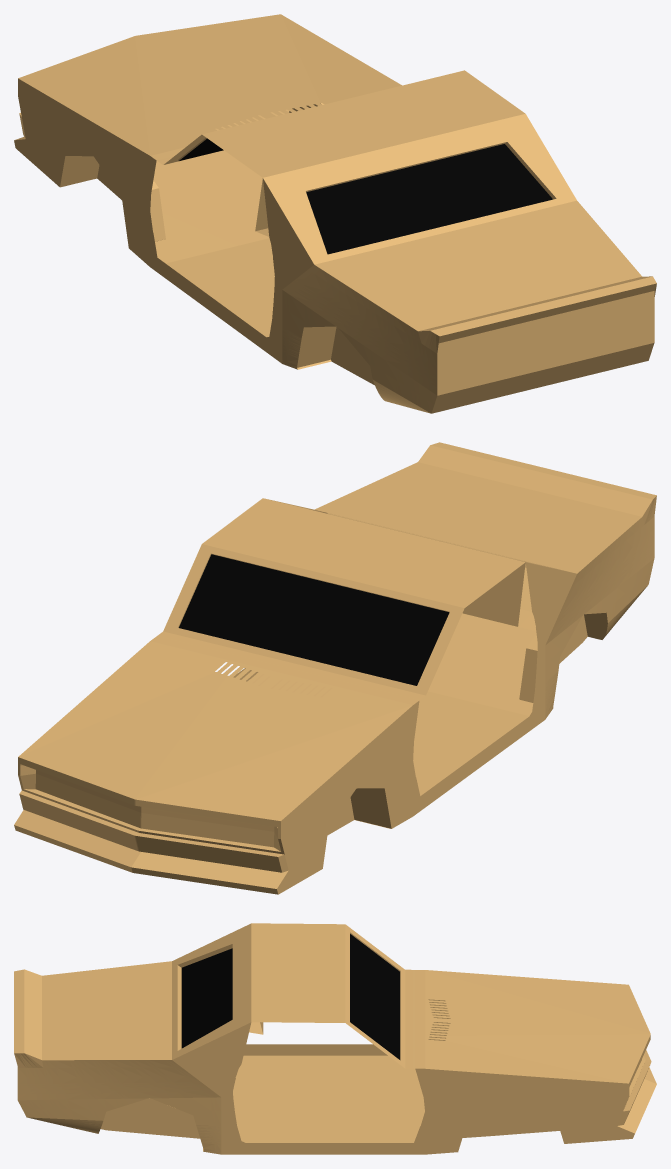
Rendered from dafsgdhfnjgm.fbx.
3 renders of one model, top to bottom at view 1: azimuth 30°, elevation 25°; view 2: azimuth 150°, elevation 25°; view 3: azimuth 270°, elevation 25°, orthographic. The views are drawn at different scales.
Visible parts, largest first — view 1: Cube_1_3; view 2: Cube_1_3; view 3: Cube_1_3.
Part boxes in pixels (left/top/right/bottom): Cube_1_3: left=14, top=14, right=656, bottom=413; Cube_1_3: left=14, top=442, right=656, bottom=894; Cube_1_3: left=14, top=923, right=656, bottom=1154.
Size of the model in its own units: 200 by 125 by 550.
